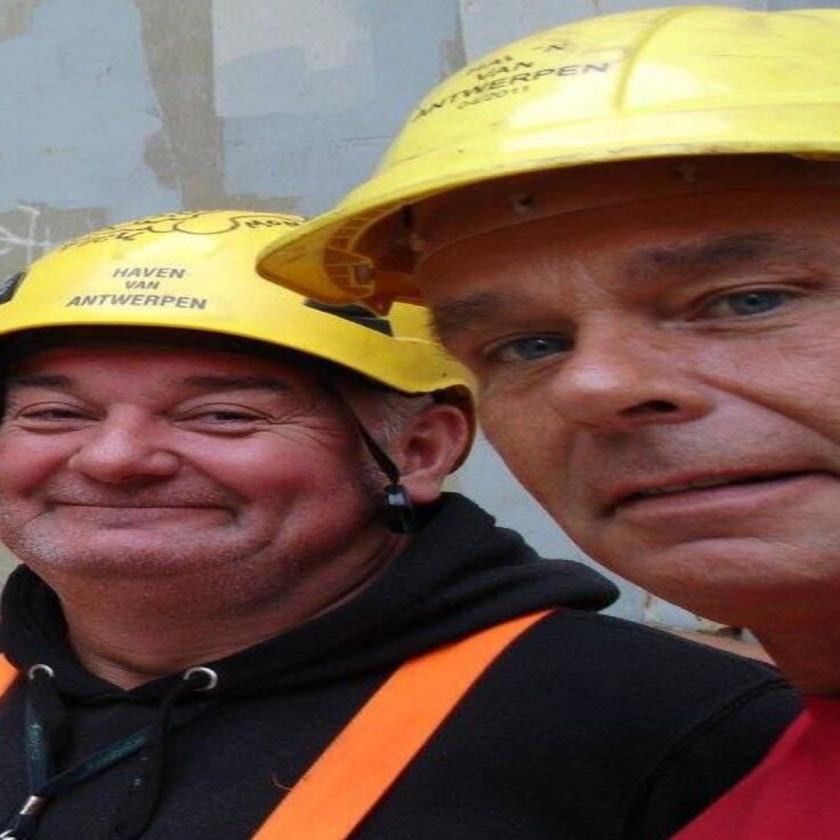Con_casco: (322, 8, 840, 654), (0, 206, 493, 626)
